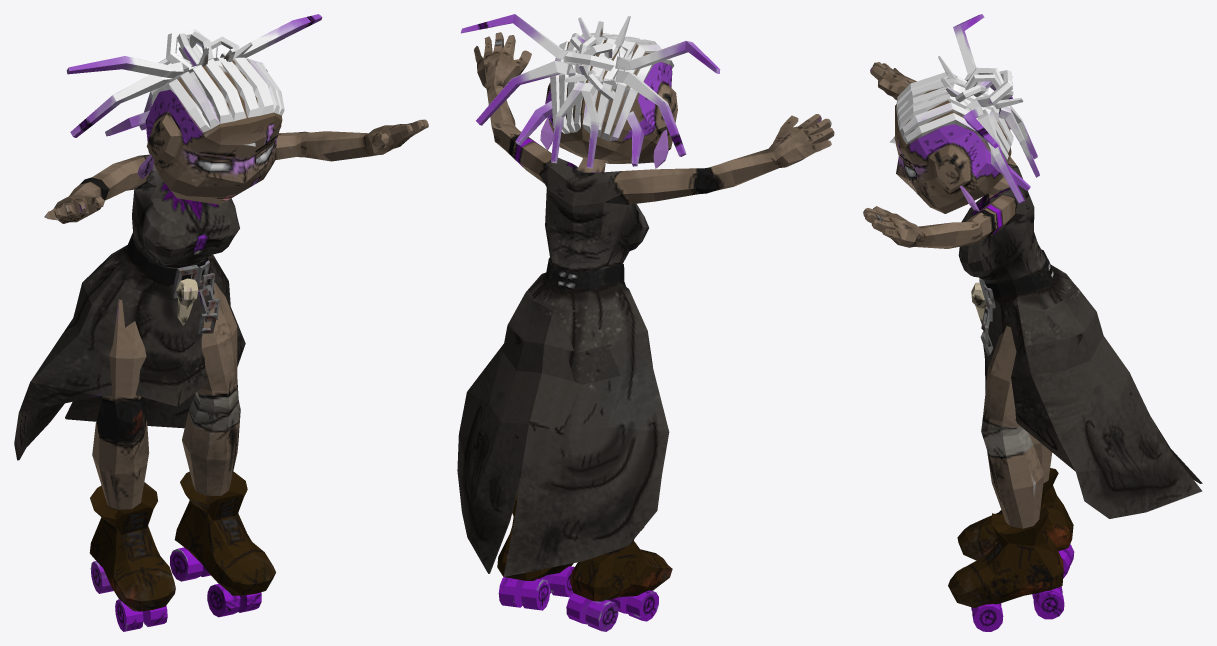
Rendered from bruja_000210.obj.
The picture shows the model from 3 angles, left to right: view 1: azimuth 30°, elevation 25°; view 2: azimuth 150°, elevation 25°; view 3: azimuth 270°, elevation 25°; orthographic projection. The views are drawn at different scales.
Visible parts, largest first — view 1: Bruja_Plane.001; view 2: Bruja_Plane.001; view 3: Bruja_Plane.001.
Boxes of the visible parts, x1=… form: Bruja_Plane.001: x1=14, y1=14, x2=428, y2=631; Bruja_Plane.001: x1=457, y1=14, x2=834, y2=631; Bruja_Plane.001: x1=863, y1=14, x2=1202, y2=631.
Size of the model in its own units: 10.75 by 16.27 by 9.2.
